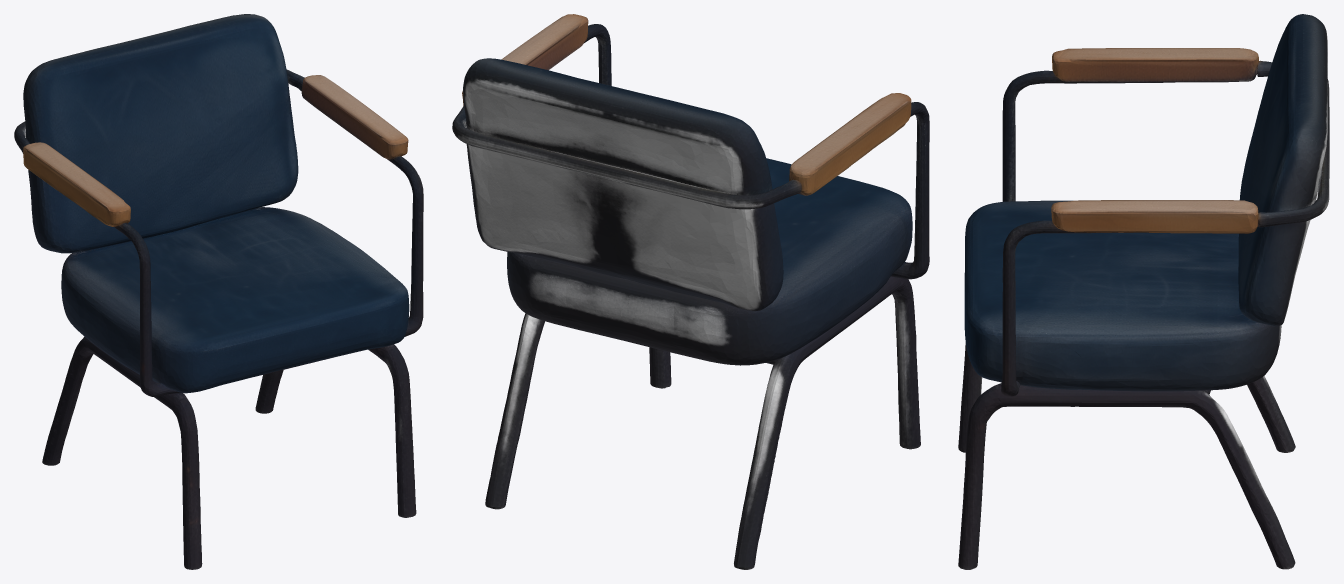
The model's file is idarb_pbr.glb.
3 renders of one model, left to right at view 1: azimuth 30°, elevation 25°; view 2: azimuth 150°, elevation 25°; view 3: azimuth 270°, elevation 25°, orthographic. The views are drawn at different scales.
Parts seen in each view (by area): view 1: world; view 2: world; view 3: world.
Boxes of the visible parts, x1,y1,x2,y2 form: world: [14, 14, 423, 569]; world: [452, 14, 929, 569]; world: [958, 14, 1329, 569].
Size of the model in its own units: 0.8049 by 1 by 0.7712.
1 material, 1 textured.
